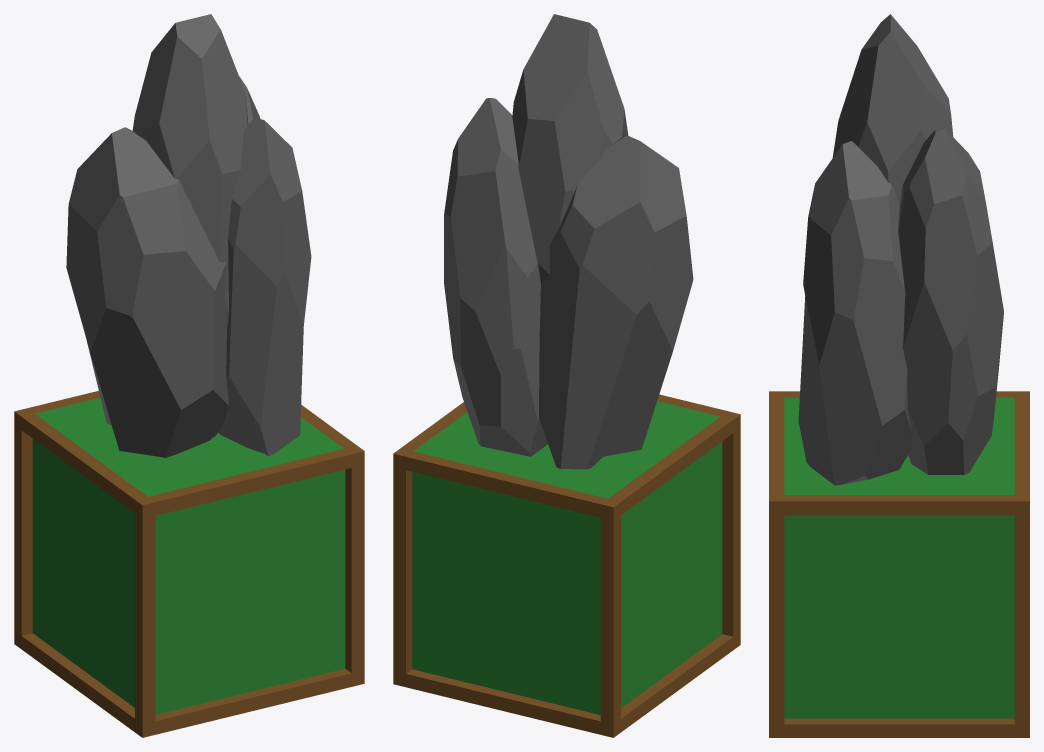
The model's file is Tall_Rocks_1.fbx.
The picture shows the model from 3 angles, left to right: view 1: azimuth 30°, elevation 25°; view 2: azimuth 150°, elevation 25°; view 3: azimuth 270°, elevation 25°; orthographic projection. The views are drawn at different scales.
Parts seen in each view (by area): view 1: platform.003; view 2: platform.003; view 3: platform.003.
Boxes of the visible parts, x1,y1,x2,y2 form: platform.003: [14, 14, 364, 737]; platform.003: [393, 14, 740, 737]; platform.003: [769, 14, 1029, 737].
Size of the model in its own units: 200 by 558 by 200.
